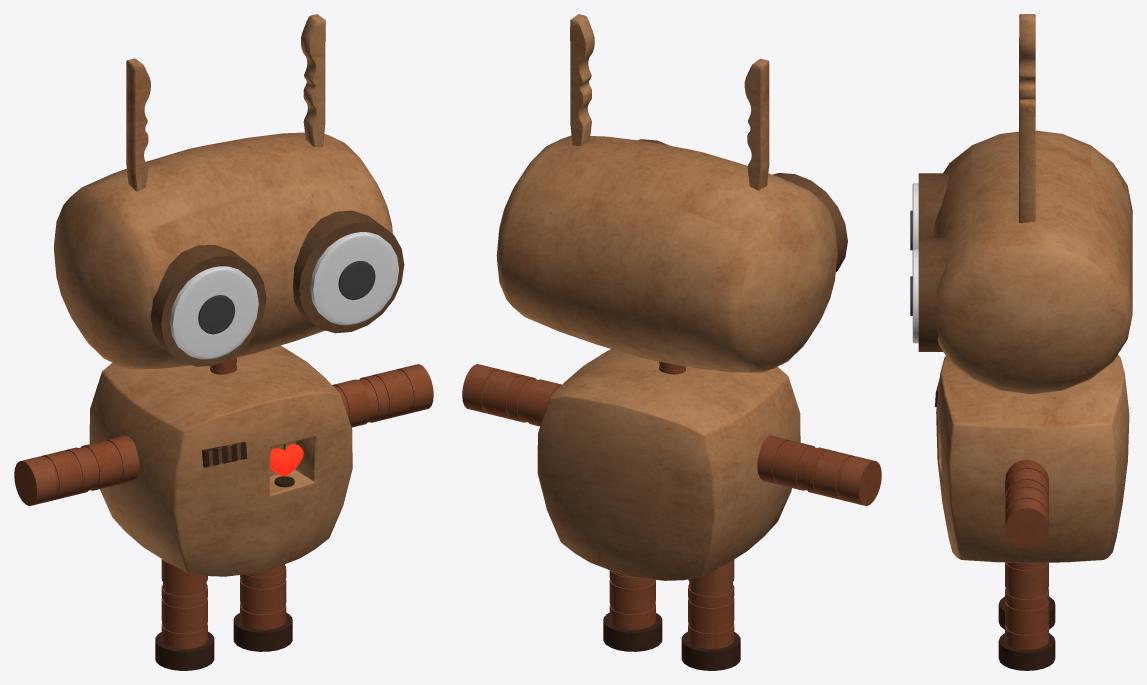
Rendered from robo.gltf.
The picture shows the model from 3 angles, left to right: view 1: azimuth 30°, elevation 25°; view 2: azimuth 150°, elevation 25°; view 3: azimuth 270°, elevation 25°; orthographic projection. The views are drawn at different scales.
Visible parts, largest first — view 1: Object_2, Object_9, Object_4, Object_7, Object_5, Object_3, Object_6, Object_8; view 2: Object_2, Object_9, Object_5, Object_3, Object_7; view 3: Object_2, Object_9, Object_7, Object_5, Object_3, Object_4.
Boxes of the visible parts, left/top/right/bottom form: Object_2: left=54, top=132, right=392, bottom=576; Object_9: left=14, top=357, right=433, bottom=648; Object_4: left=170, top=232, right=398, bottom=359; Object_7: left=150, top=210, right=404, bottom=466; Object_5: left=126, top=14, right=325, bottom=191; Object_3: left=155, top=441, right=294, bottom=670; Object_6: left=198, top=261, right=375, bottom=334; Object_8: left=270, top=444, right=303, bottom=476; Object_2: left=496, top=135, right=837, bottom=580; Object_9: left=462, top=361, right=881, bottom=648; Object_5: left=570, top=14, right=769, bottom=190; Object_3: left=603, top=612, right=740, bottom=670; Object_7: left=638, top=139, right=847, bottom=271; Object_2: left=933, top=130, right=1132, bottom=563; Object_9: left=1005, top=459, right=1048, bottom=649; Object_7: left=918, top=173, right=949, bottom=390; Object_5: left=1019, top=14, right=1035, bottom=223; Object_3: left=935, top=379, right=1055, bottom=670; Object_4: left=912, top=183, right=918, bottom=343.
Size of the model in its own units: 0.2155 by 0.316 by 0.1092.
9 materials, 9 textured.
